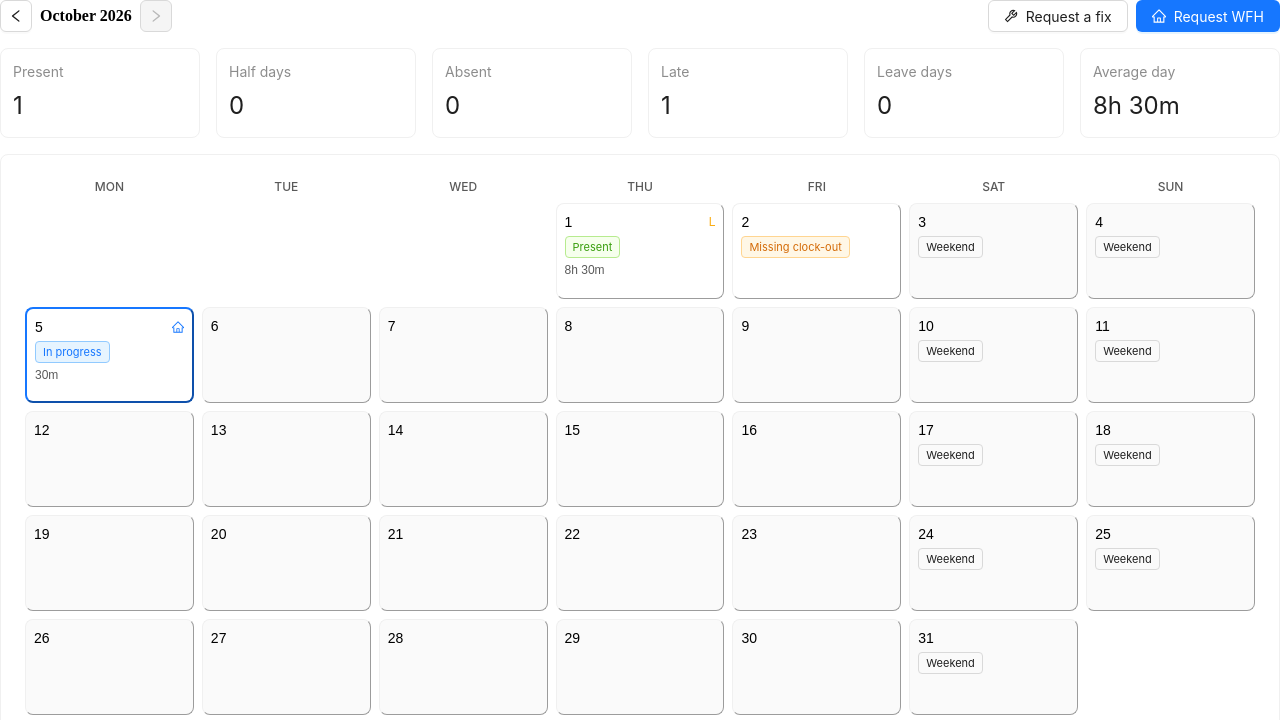
Scenario: Me → Attendance › doesn't offer a fix for a day that hasn't happened
This screenshot has width=1280, height=720.
Click the button named "6 October: Upcoming".
click(286, 355)  # box [202,307,371,403]
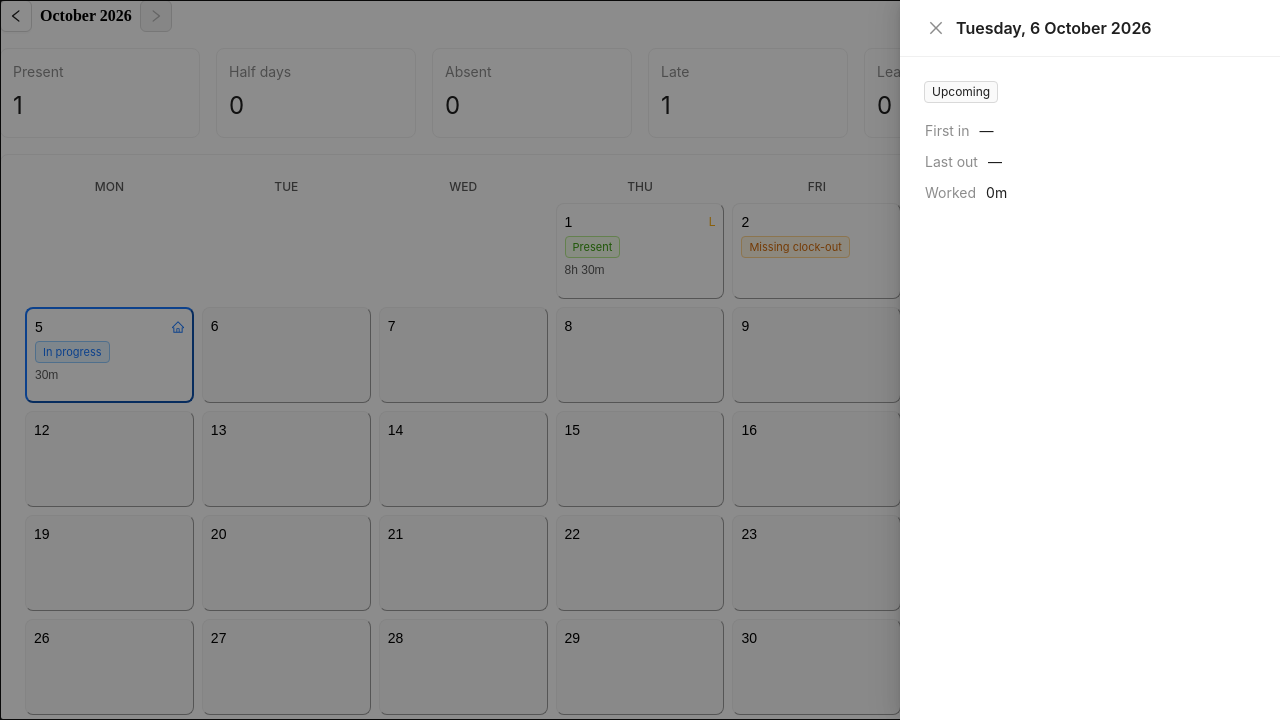
Check: the dialog is shown, box [900,0,1279,719]
